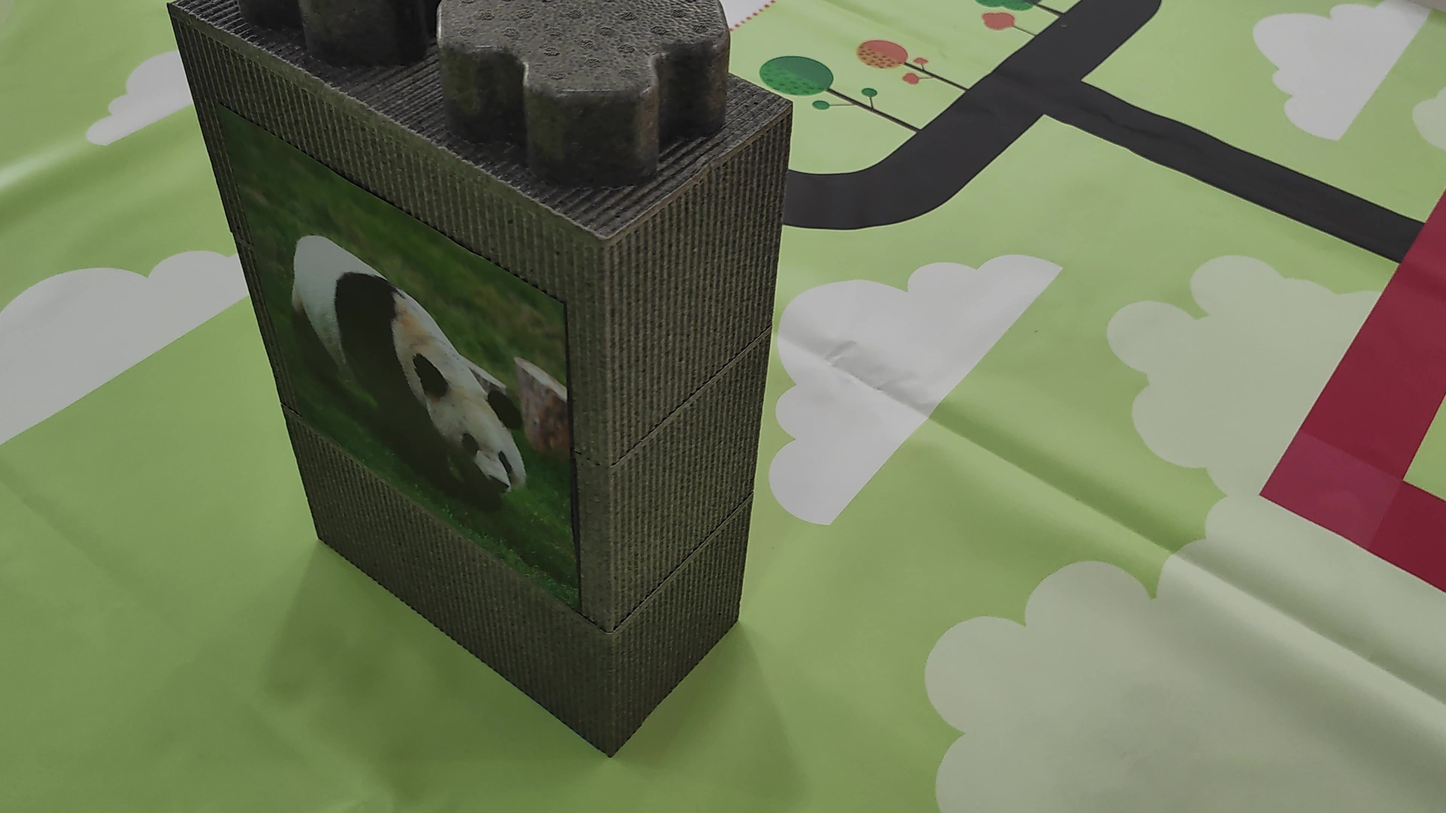panda: (249, 205, 557, 552)
